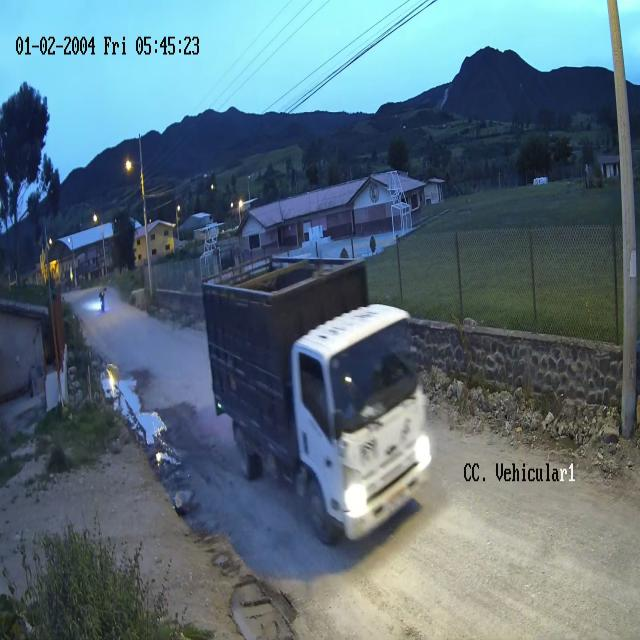TRUCK: (202, 261, 432, 546)
